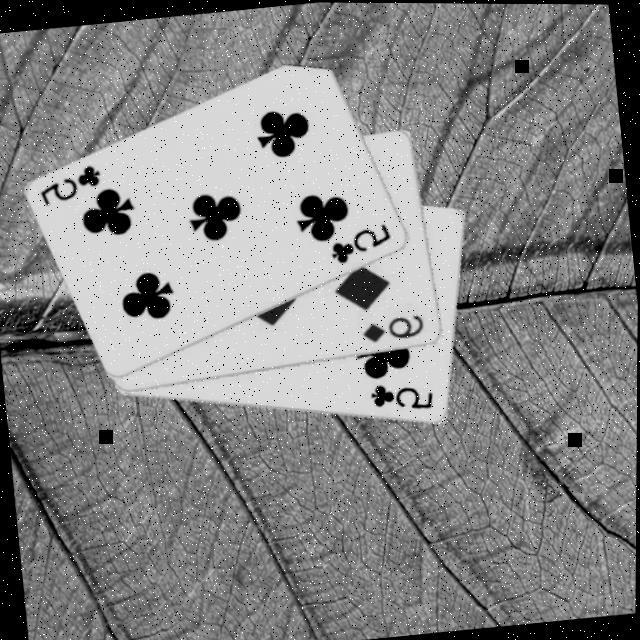5C: (33, 161, 105, 211), (323, 219, 394, 268), (365, 377, 436, 418)
6D: (355, 310, 426, 347)
